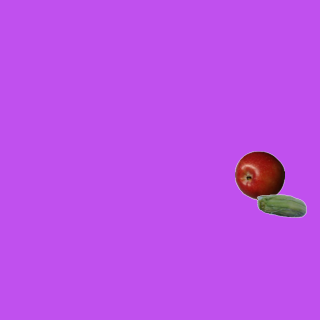Apple Braeburn: (234, 150, 284, 200)
Corn Husk: (256, 182, 306, 232)
